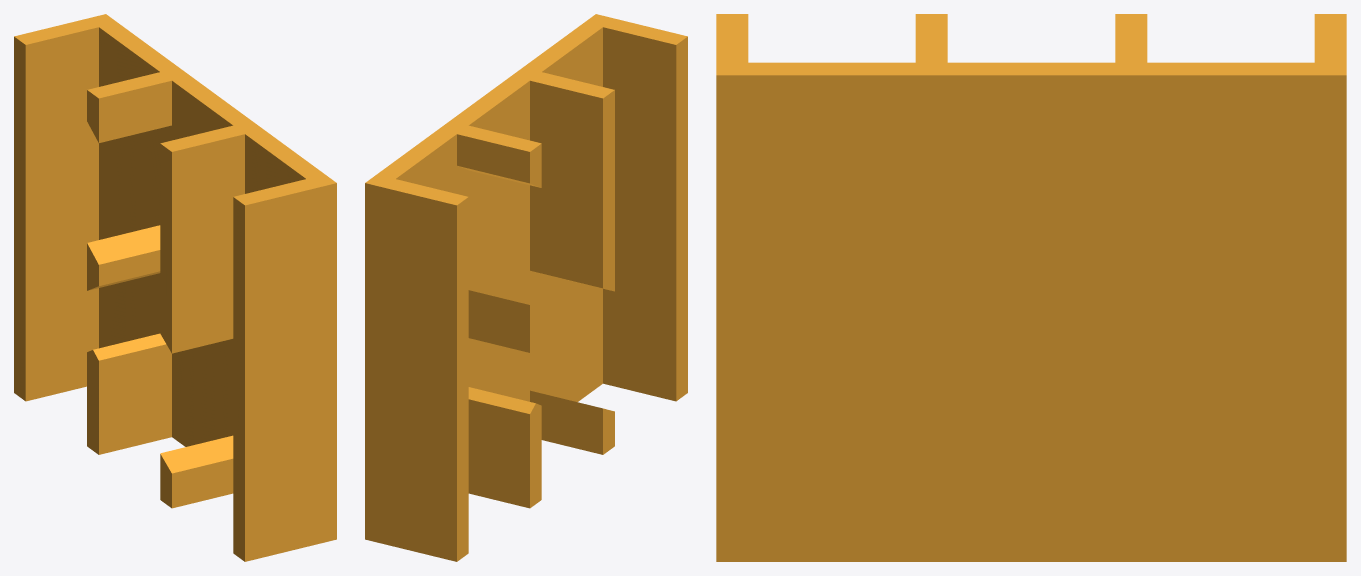
Rendered from TRACKS5.fbx.
3 renders of one model, left to right at view 1: azimuth 30°, elevation 25°; view 2: azimuth 150°, elevation 25°; view 3: azimuth 270°, elevation 25°, orthographic. The views are drawn at different scales.
Parts seen in each view (by area): view 1: Group2, Group1; view 2: Group2, Group1; view 3: Group1, Group2.
Boxes of the visible parts, x1,y1,x2,y2 form: Group2: [14, 18, 318, 561]; Group1: [87, 14, 336, 543]; Group2: [383, 18, 687, 561]; Group1: [365, 14, 614, 543]; Group1: [716, 62, 1346, 561]; Group2: [716, 14, 1346, 62].
Size of the model in its own units: 346 by 1283 by 1507.
